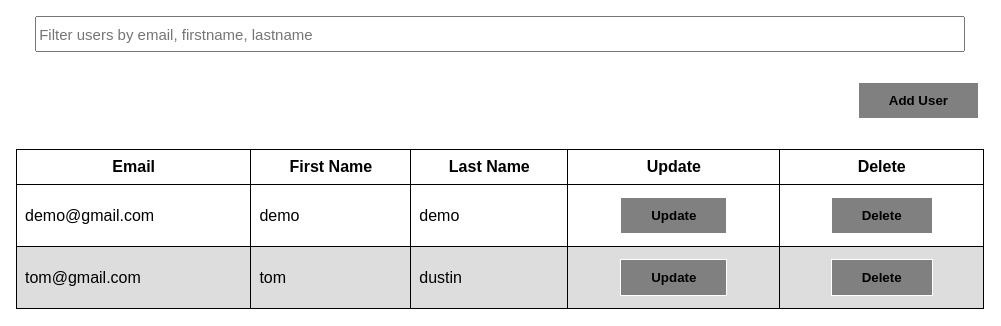
it: User List › search text should update user table correctly
The image size is (1001, 326).
Check: the number of rows with test id "user-rows" is 2, box [16,184,984,246]; [16,246,984,308]
In the field with test id "search-input": (500, 34) [35,16,965,52], type "tom"
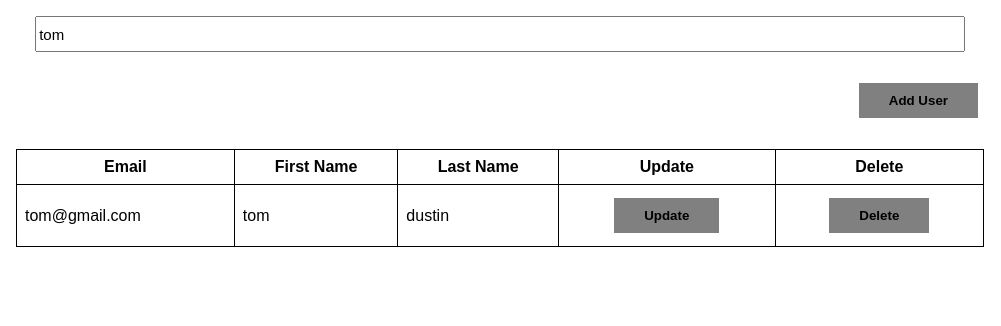
Check: the number of rows with test id "user-rows" is 1, box [16,184,984,246]
